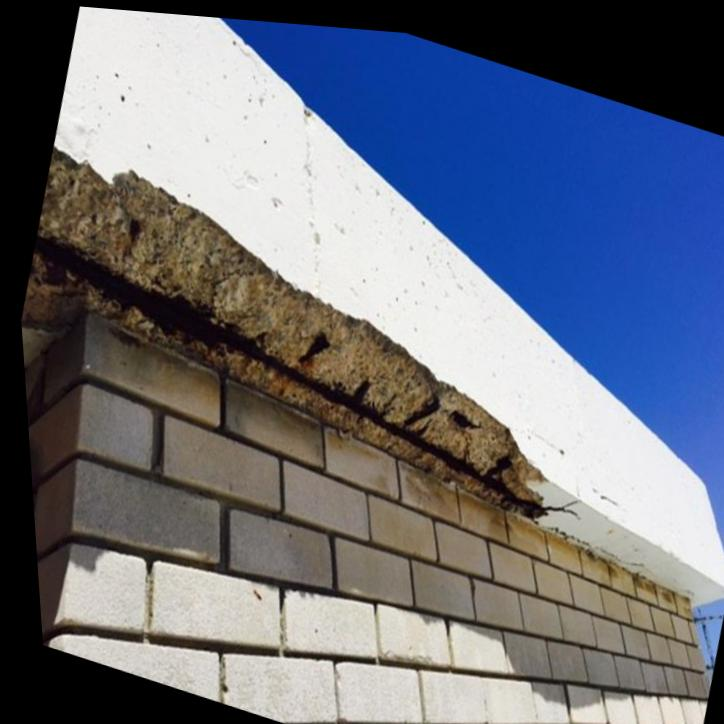crack: (537, 517, 636, 556), (301, 126, 316, 271), (534, 489, 576, 511)
damage: (17, 147, 539, 510)
